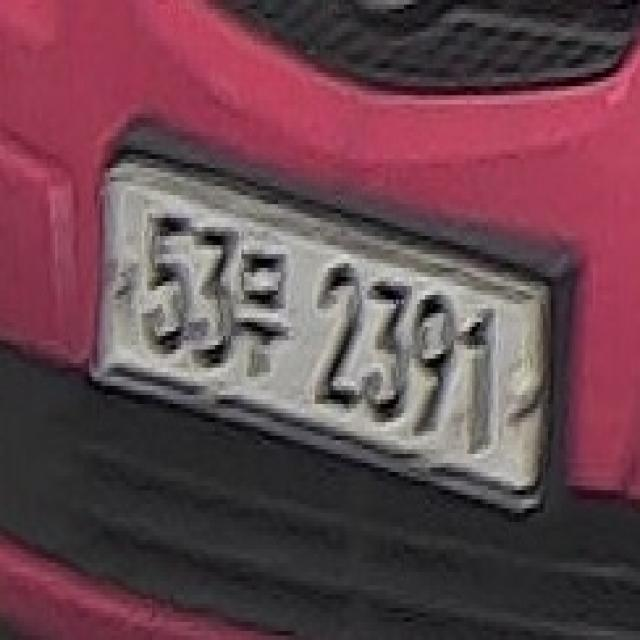1: (451, 290, 504, 463)
2: (310, 250, 372, 436)
3: (189, 209, 241, 390), (364, 272, 412, 436)
5: (139, 218, 191, 368)
9: (406, 281, 454, 445)
license_plate: (92, 122, 569, 536)
mu: (236, 236, 286, 381)
